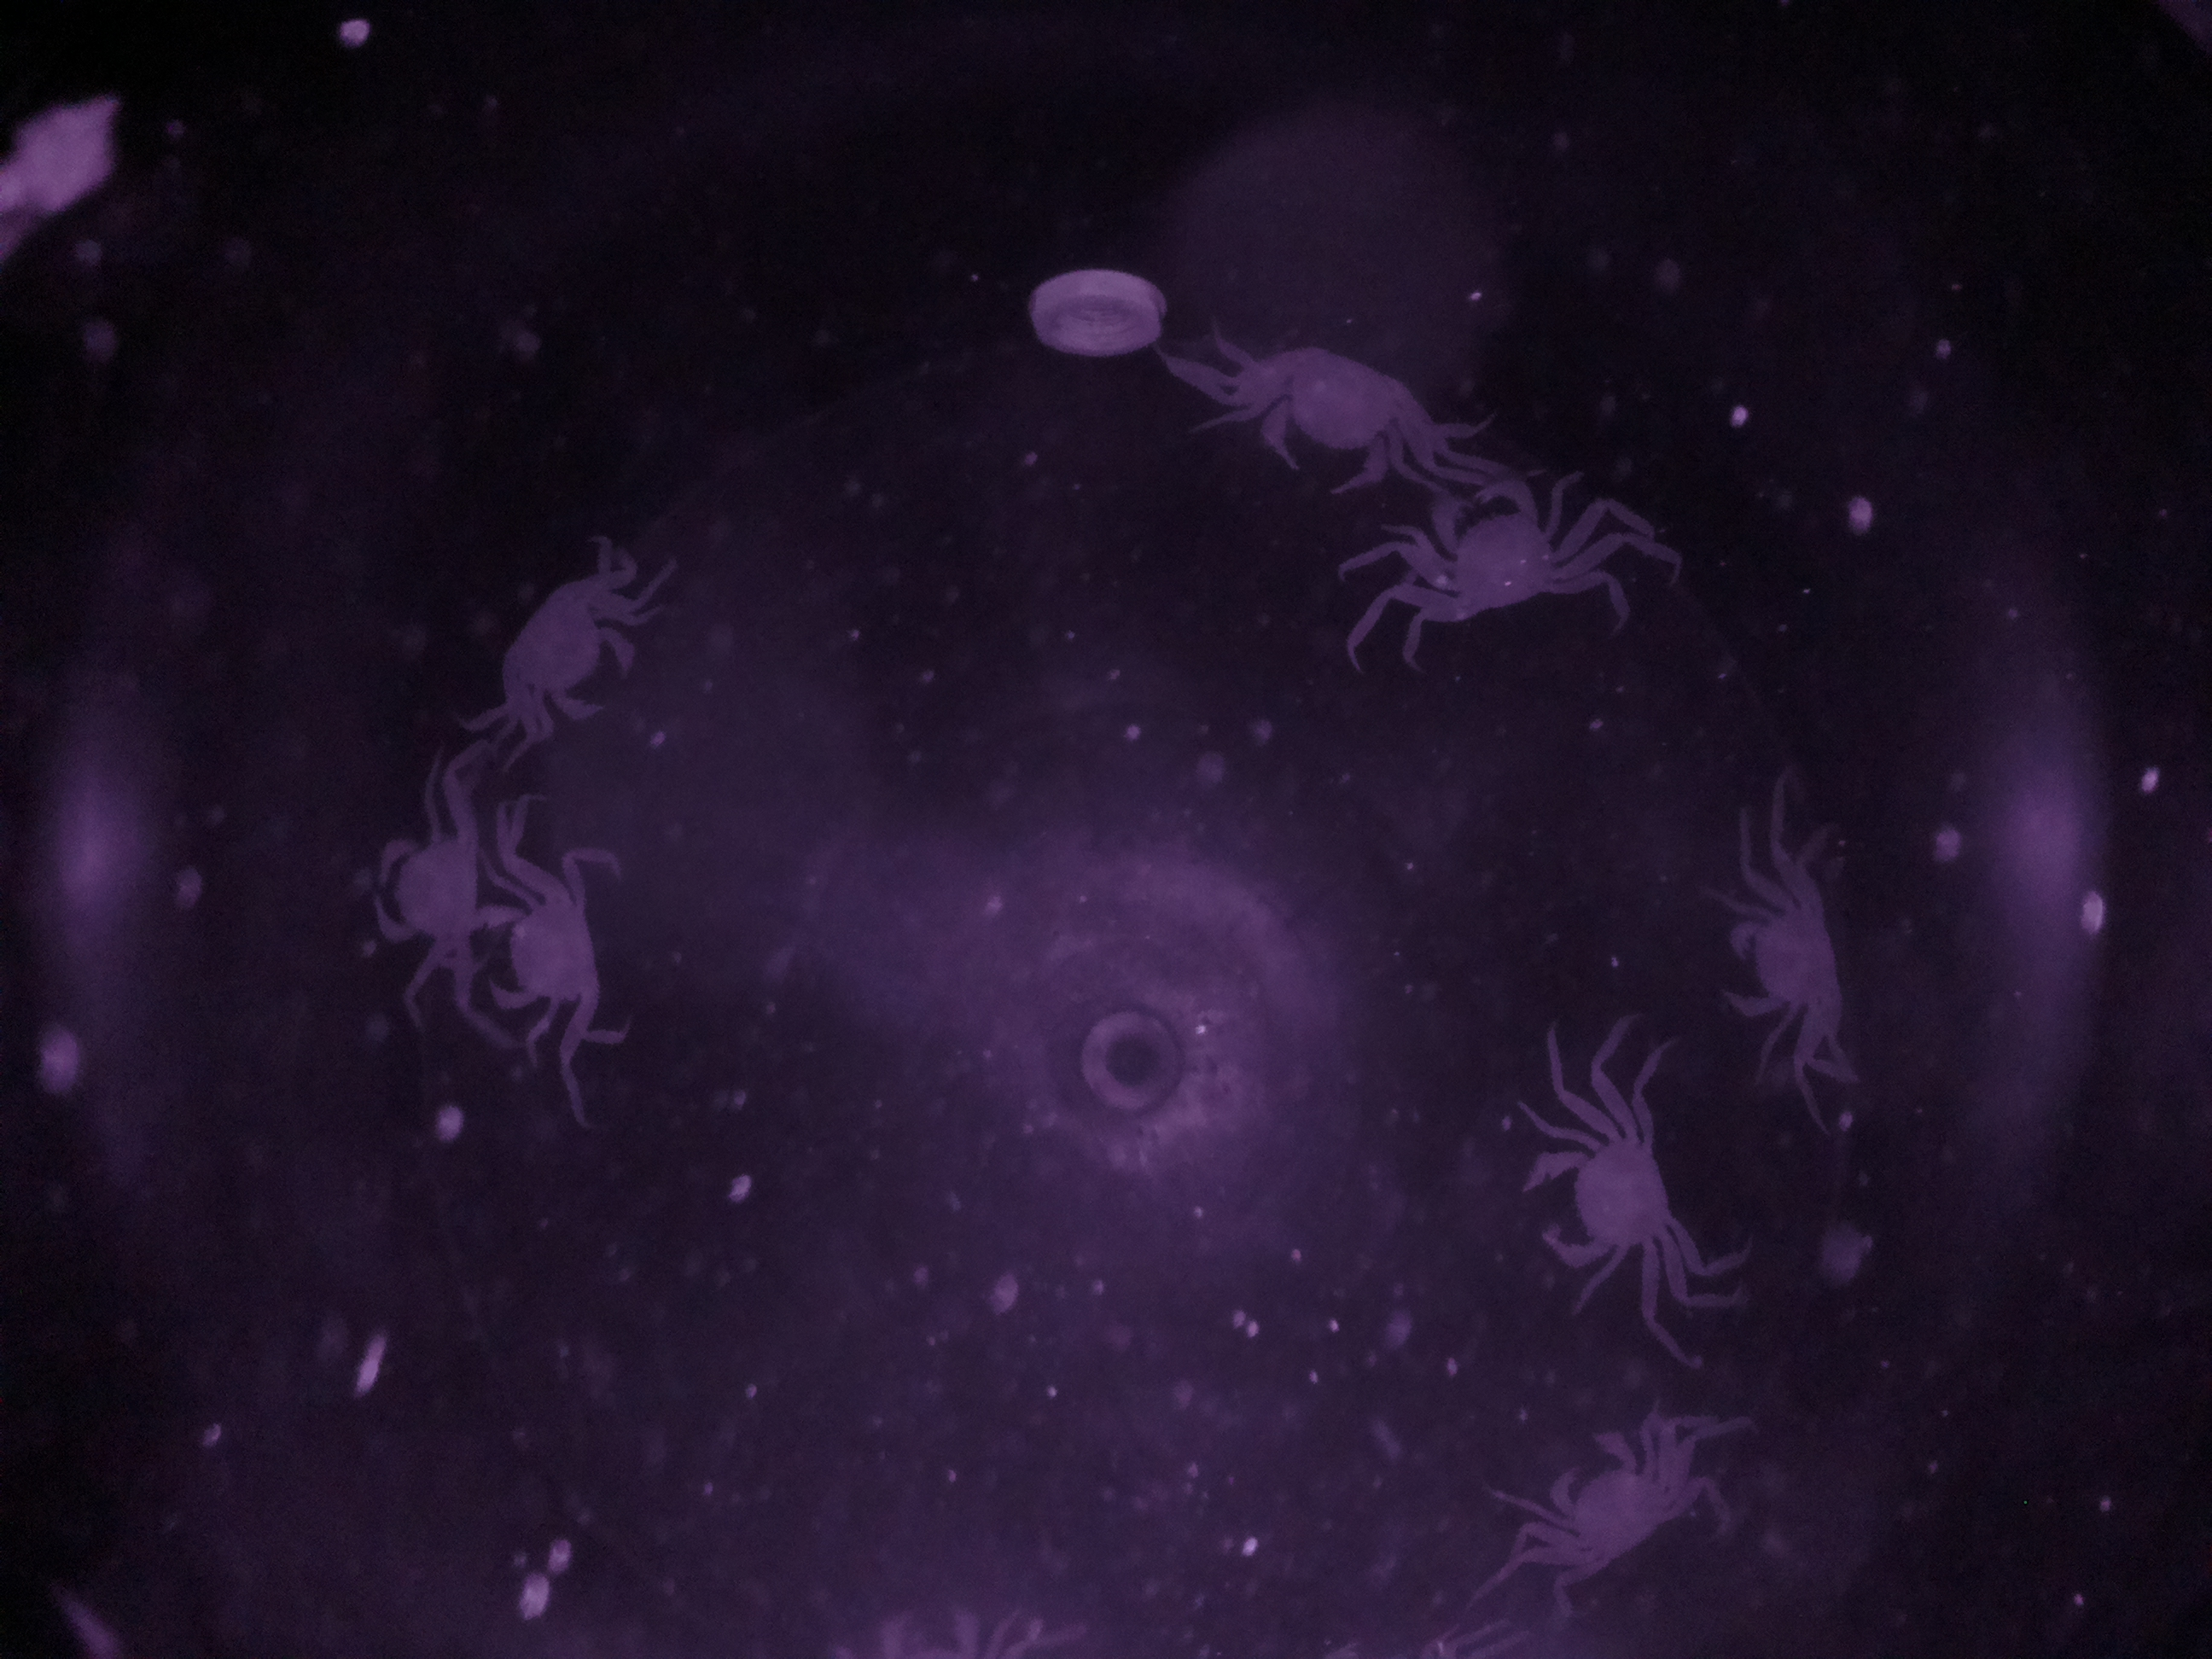Crab: (1508, 1089, 1709, 1321), (1217, 326, 1446, 514), (1385, 455, 1599, 641), (1517, 1403, 1707, 1610), (439, 852, 613, 1044), (479, 549, 643, 744), (357, 795, 509, 983), (1700, 871, 1864, 1042)
